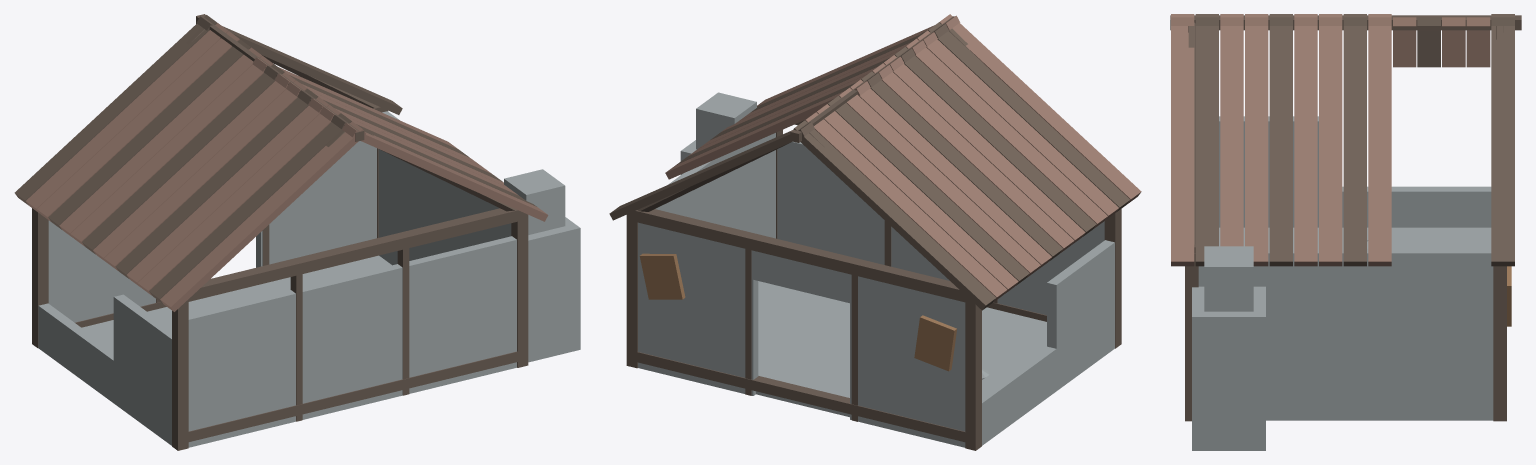
Rendered from house_blacksmith_ruined.glb.
3 views of the same model, side by side, from view 1: azimuth 30°, elevation 25°; view 2: azimuth 150°, elevation 25°; view 3: azimuth 270°, elevation 25° (orthographic). The views are drawn at different scales.
Visible parts, largest first — view 1: house_blacksmith_ruined; view 2: house_blacksmith_ruined; view 3: house_blacksmith_ruined.
Boxes of the visible parts, <box> form: house_blacksmith_ruined: <box>14,14,580,450</box>; house_blacksmith_ruined: <box>609,14,1141,450</box>; house_blacksmith_ruined: <box>1170,14,1521,450</box>.
Size of the model in its own units: 8.64 by 5.58 by 5.7.
